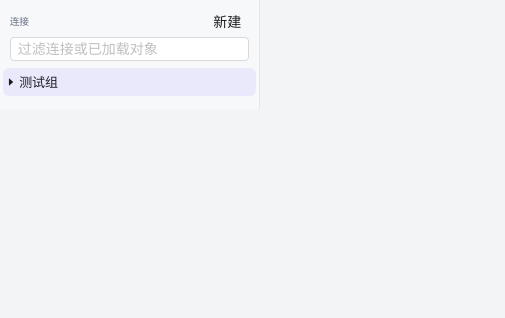
Test case: 单击树行选中并切换展开状态，叶节点只选中，右键和双击不重复展开
Earlier steps of the test are not shown.
Later steps or results of the test are not shown.
Click the text "测试组".
click(130, 82)  # box [3,68,256,96]
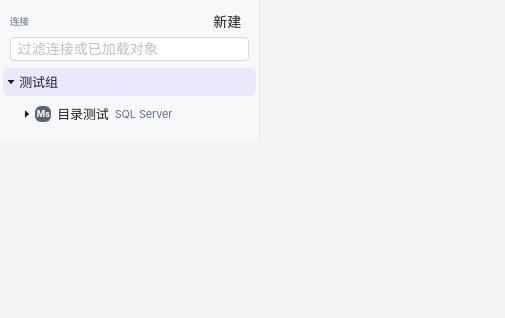
Click the text "目录测试".
click(83, 114)  # box [57,106,109,122]
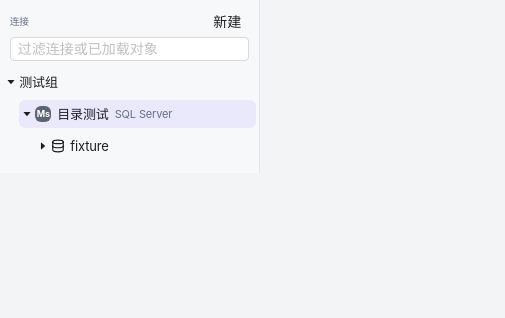
Click the text "fixture".
click(90, 146)  # box [70,138,109,154]
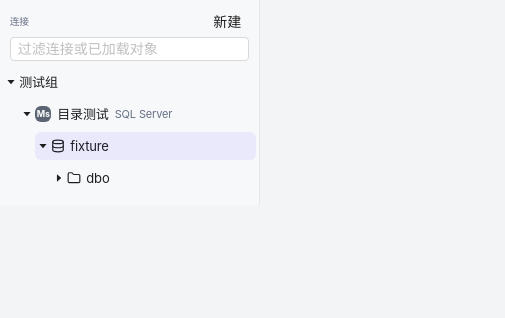
Click the text "dbo".
click(98, 178)  # box [86,170,110,186]
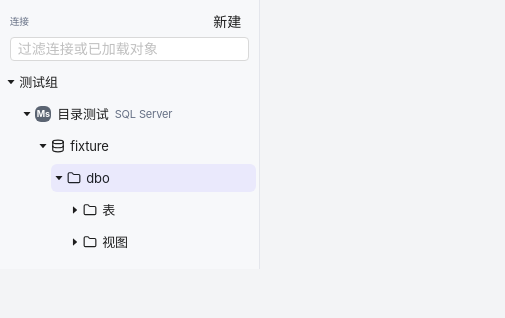
Click the text "表".
click(109, 210)  # box [102,202,115,218]
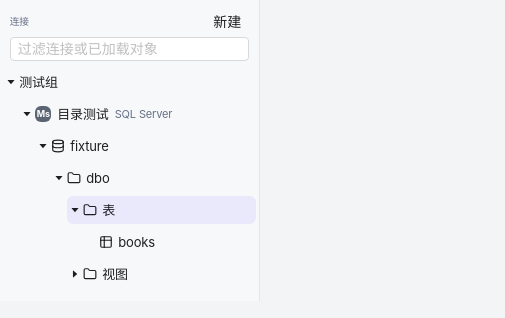
Right-click the text "books".
right_click(137, 242)  # box [118,234,155,250]
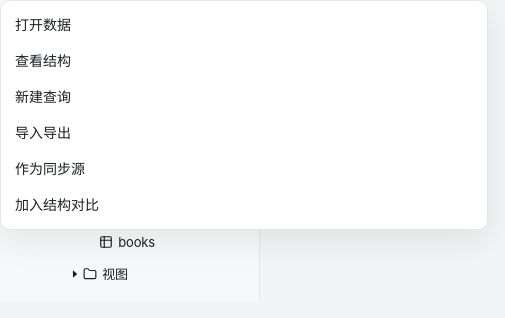
Expected: the button "打开数据" is shown, [7,7,481,43]
